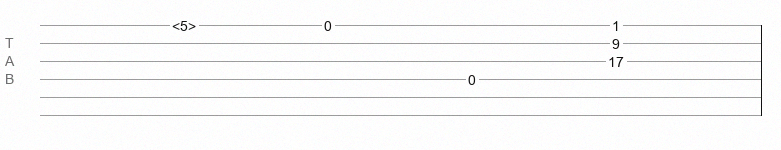0: (324, 18, 332, 28), (468, 72, 476, 82)
1: (612, 18, 620, 28)
17: (608, 54, 624, 64)
9: (612, 36, 620, 46)
harmonic: (172, 18, 196, 28)
